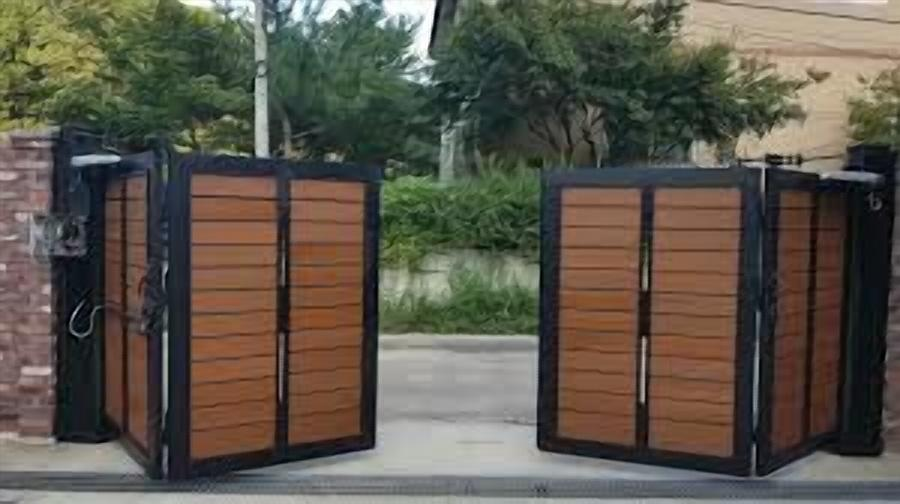Gate: (63, 142, 383, 484), (536, 161, 865, 476)
